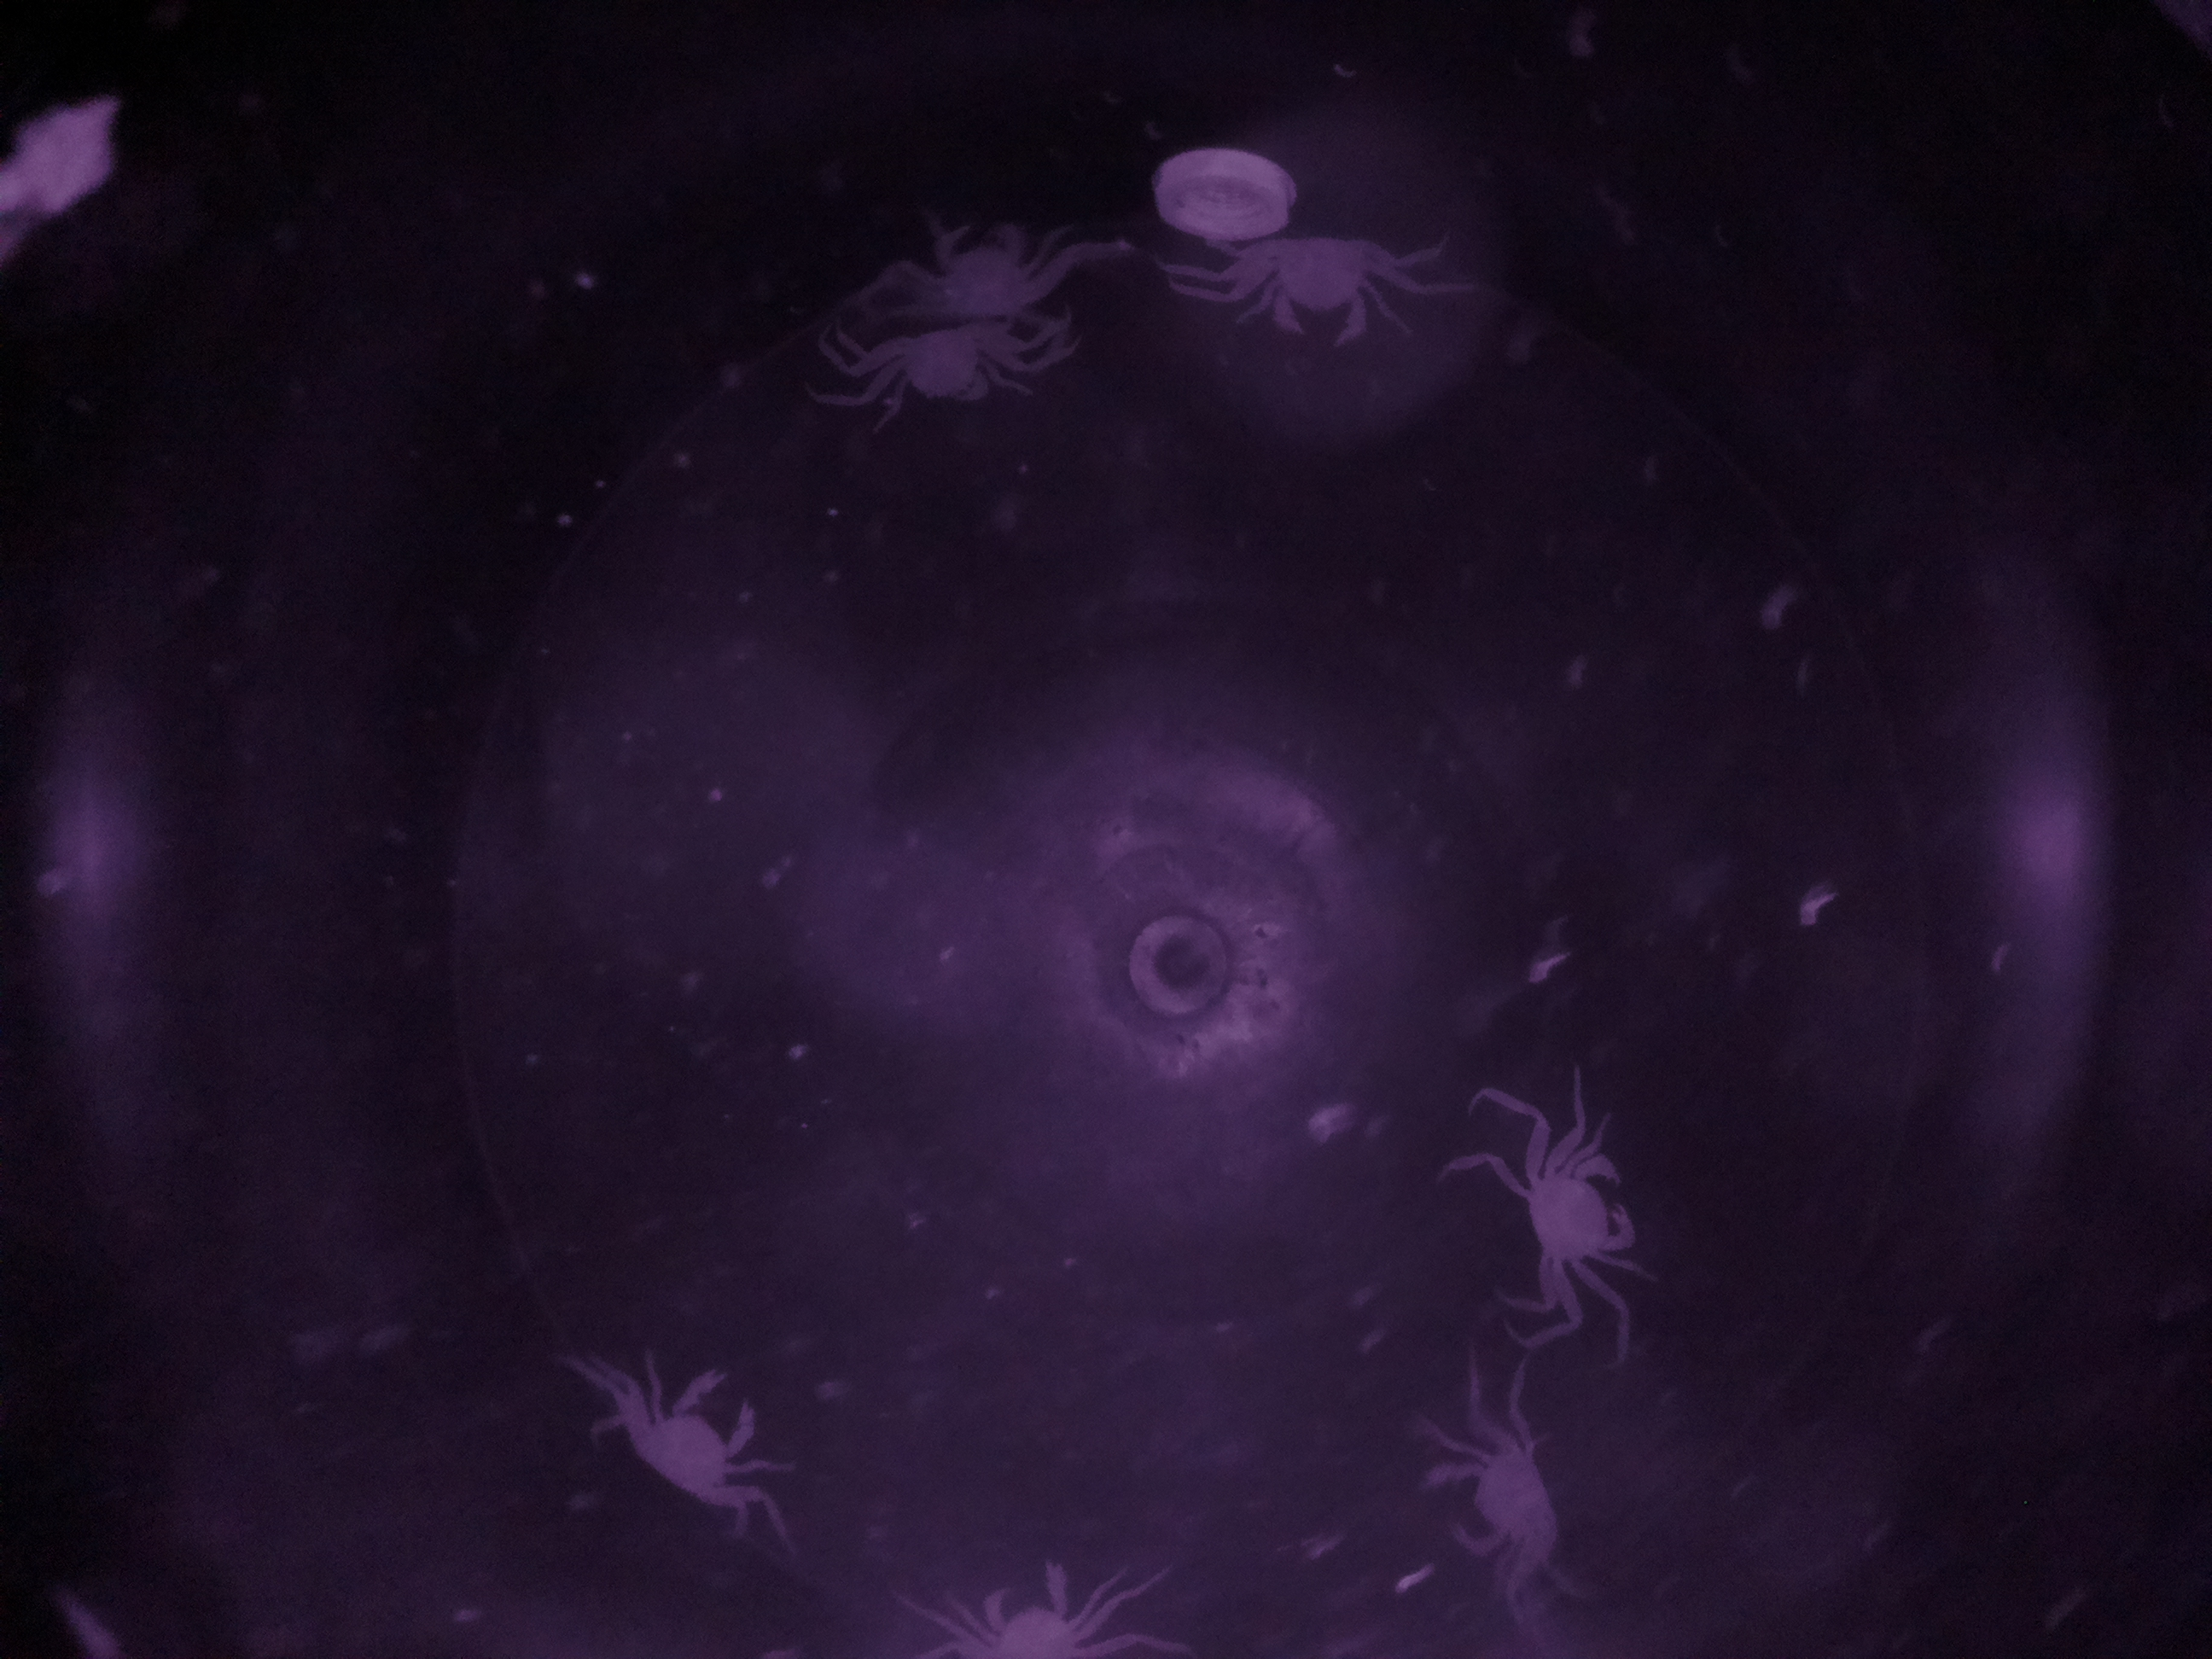Crab: (1409, 1394, 1581, 1579), (641, 1356, 779, 1535), (1503, 1129, 1648, 1300), (840, 315, 1055, 429), (1211, 227, 1409, 343), (880, 206, 1089, 314)
